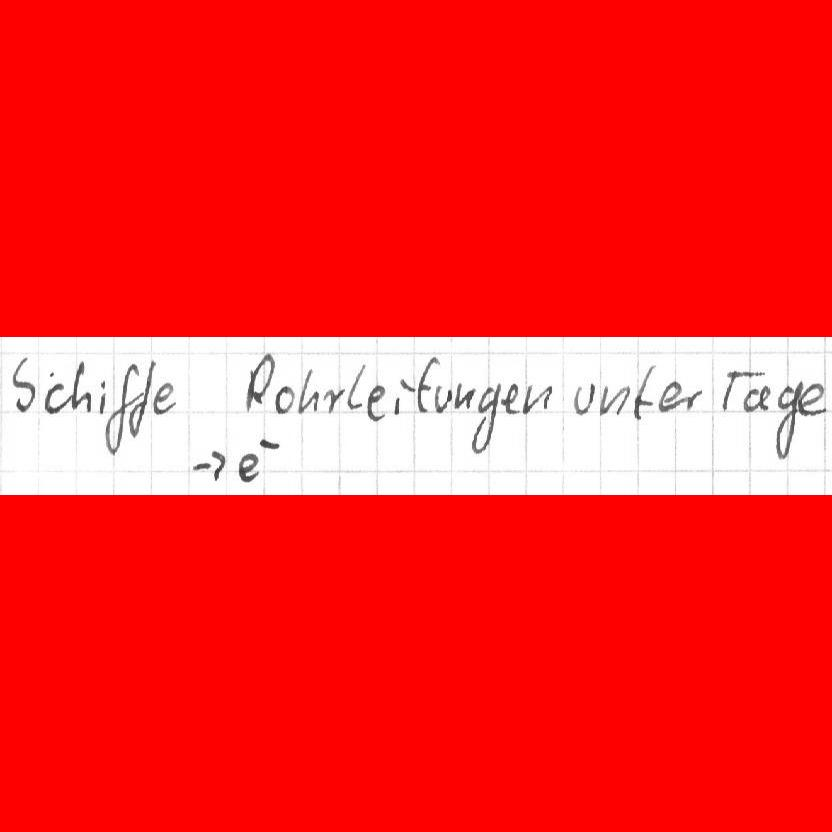Char: (104, 360, 141, 455), (127, 358, 155, 438), (470, 383, 499, 456), (773, 381, 798, 460), (243, 352, 274, 411), (9, 353, 36, 416), (633, 364, 657, 420), (69, 357, 92, 415), (415, 356, 435, 414), (194, 448, 227, 483), (599, 382, 629, 419), (720, 369, 743, 413), (521, 381, 551, 414), (43, 372, 65, 415), (296, 368, 317, 413), (801, 379, 825, 416), (572, 380, 596, 416), (347, 362, 364, 412), (365, 383, 386, 423), (152, 381, 176, 415), (393, 376, 413, 416), (659, 381, 681, 413), (237, 452, 261, 481), (453, 380, 476, 410), (748, 385, 772, 413), (502, 380, 521, 413), (322, 386, 343, 415), (681, 386, 703, 411), (274, 387, 294, 413), (258, 433, 281, 452), (435, 387, 452, 412), (97, 379, 107, 416)
